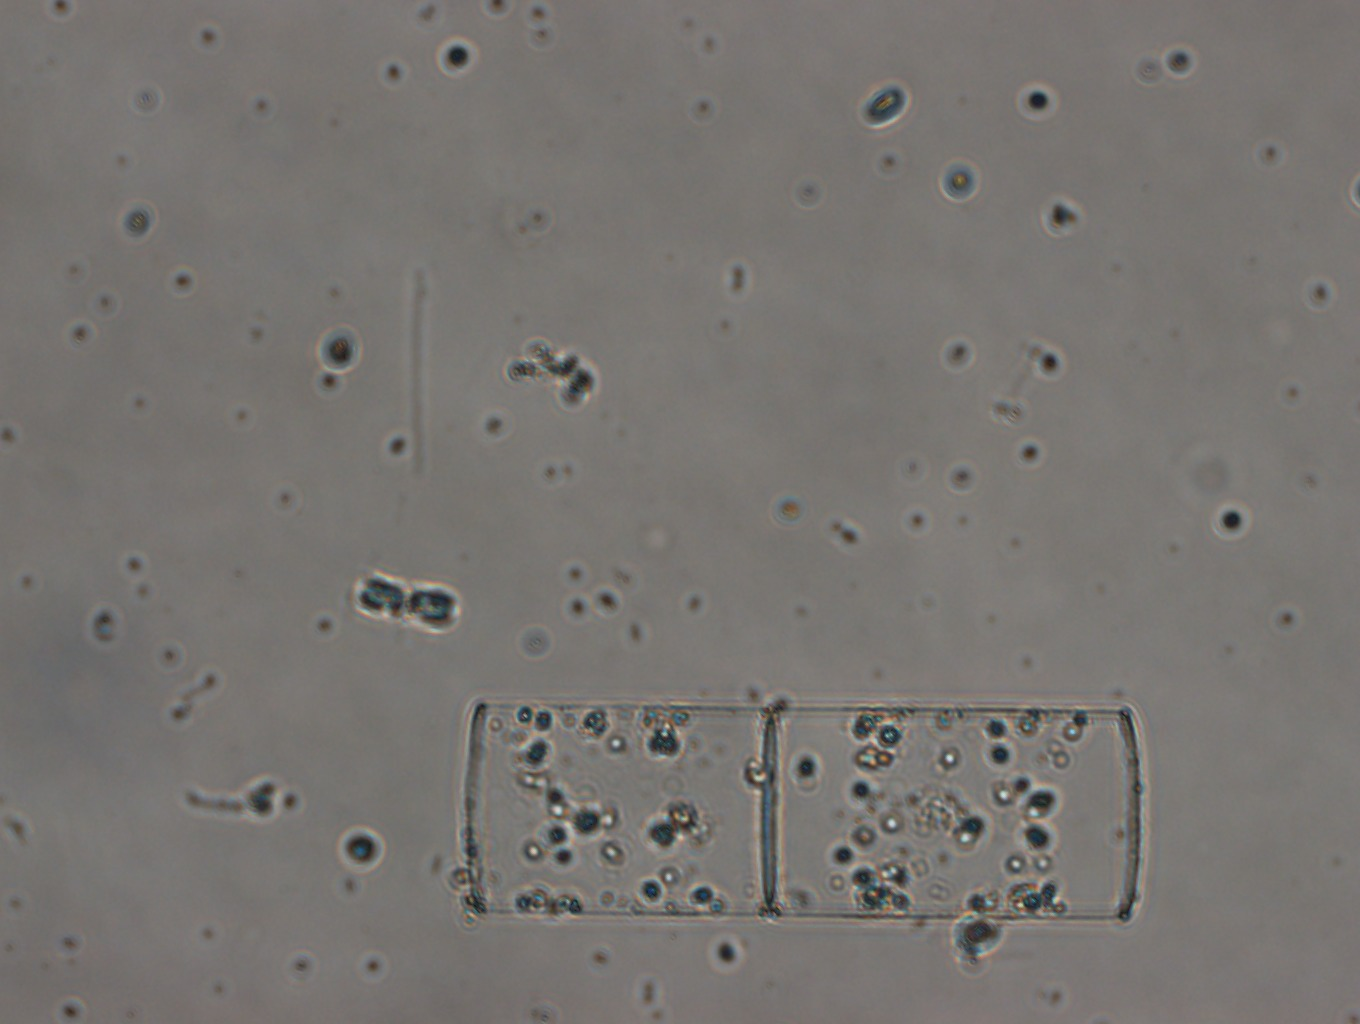guinardia flaccida: (460, 699, 1145, 915)
